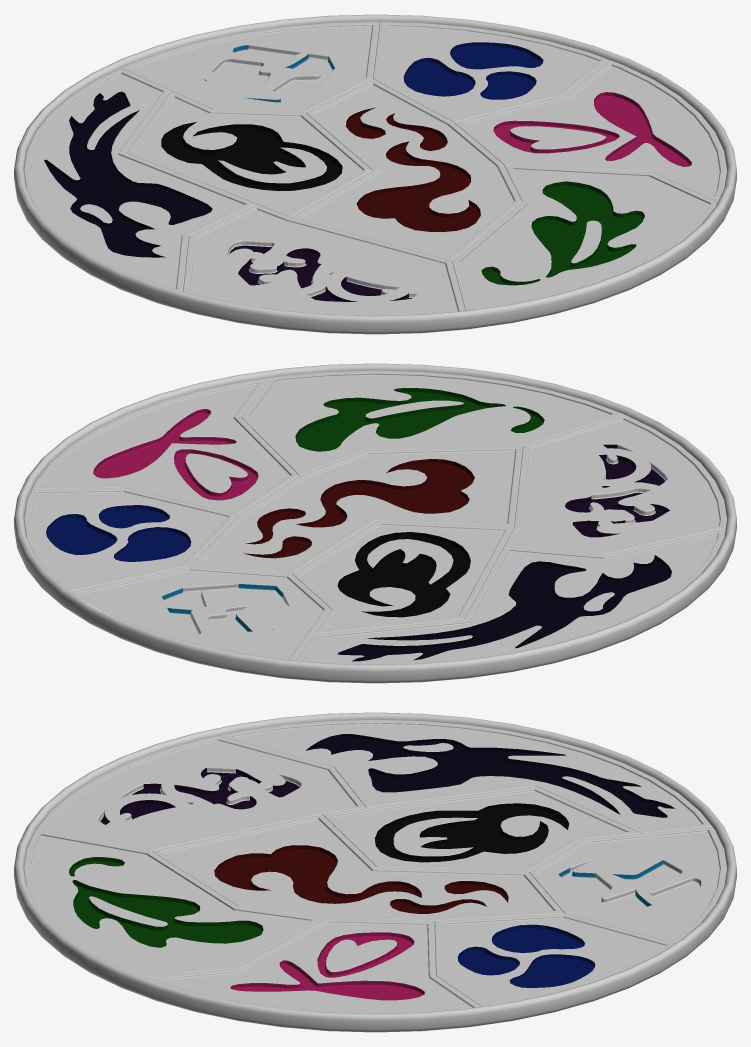
The model's file is medallero.obj.
3 renders of one model, top to bottom at view 1: azimuth 30°, elevation 25°; view 2: azimuth 150°, elevation 25°; view 3: azimuth 270°, elevation 25°, orthographic.
Parts seen in each view (by area): view 1: Medalla_Dragon, Medalla_Planta, Medalla_Fuego, Aro_Base, Medalla_Hada, Medalla_Siniestro, Medalla_Agua, Medalla_Lucha, Medalla_Roca, Medalla_Fantasma, Medalla_Hielo; view 2: Medalla_Dragon, Medalla_Planta, Medalla_Fuego, Aro_Base, Medalla_Hada, Medalla_Siniestro, Medalla_Lucha, Medalla_Agua, Medalla_Roca, Medalla_Fantasma, Medalla_Hielo; view 3: Medalla_Dragon, Medalla_Planta, Medalla_Fuego, Aro_Base, Medalla_Hada, Medalla_Lucha, Medalla_Siniestro, Medalla_Agua, Medalla_Roca, Medalla_Fantasma, Medalla_Hielo.
Part boxes in pixels (box(x1,y1,x2,y2)): Medalla_Dragon: box(24, 68, 255, 291); Medalla_Planta: box(452, 164, 717, 310); Medalla_Fuego: box(291, 79, 521, 260); Aro_Base: box(14, 14, 736, 334); Medalla_Hada: box(454, 60, 726, 201); Medalla_Siniestro: box(126, 90, 371, 217); Medalla_Agua: box(373, 22, 608, 122); Medalla_Lucha: box(183, 204, 465, 315); Medalla_Roca: box(122, 22, 378, 111); Medalla_Fantasma: box(185, 207, 464, 315); Medalla_Hielo: box(122, 21, 379, 112); Medalla_Dragon: box(295, 528, 725, 664); Medalla_Planta: box(241, 370, 623, 475); Medalla_Fuego: box(189, 446, 522, 573); Aro_Base: box(14, 363, 736, 683); Medalla_Hada: box(32, 378, 298, 514); Medalla_Siniestro: box(292, 520, 513, 633); Medalla_Lucha: box(504, 414, 726, 554); Medalla_Agua: box(24, 488, 237, 591); Medalla_Roca: box(71, 566, 330, 660); Medalla_Fantasma: box(505, 415, 725, 553); Medalla_Hielo: box(74, 566, 331, 660); Medalla_Dragon: box(219, 719, 711, 833); Medalla_Planta: box(24, 830, 322, 976); Medalla_Fuego: box(152, 814, 563, 921); Aro_Base: box(14, 712, 736, 1032); Medalla_Hada: box(145, 918, 480, 1013); Medalla_Lucha: box(36, 736, 365, 851); Medalla_Siniestro: box(322, 786, 640, 871); Medalla_Agua: box(434, 913, 674, 1006); Medalla_Roca: box(530, 828, 726, 942); Medalla_Fantasma: box(37, 736, 364, 850); Medalla_Hielo: box(529, 826, 726, 943).
Size of the model in its own units: 0.74 by 0.02 by 0.74.
